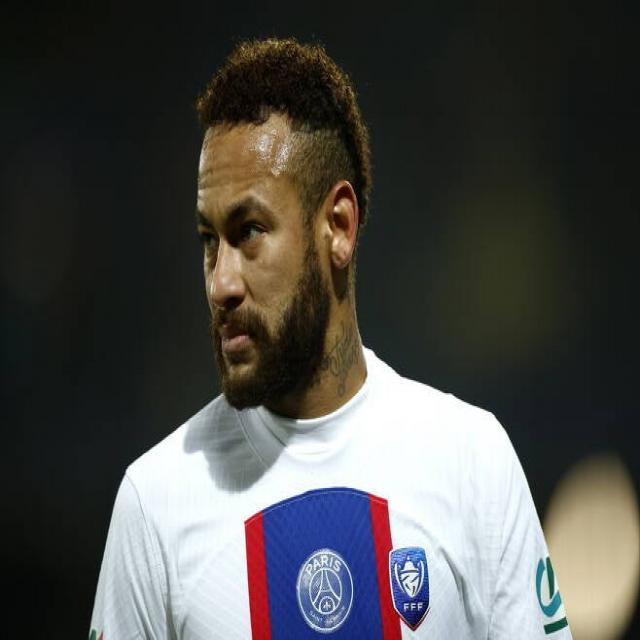neymar: (198, 41, 375, 409)
